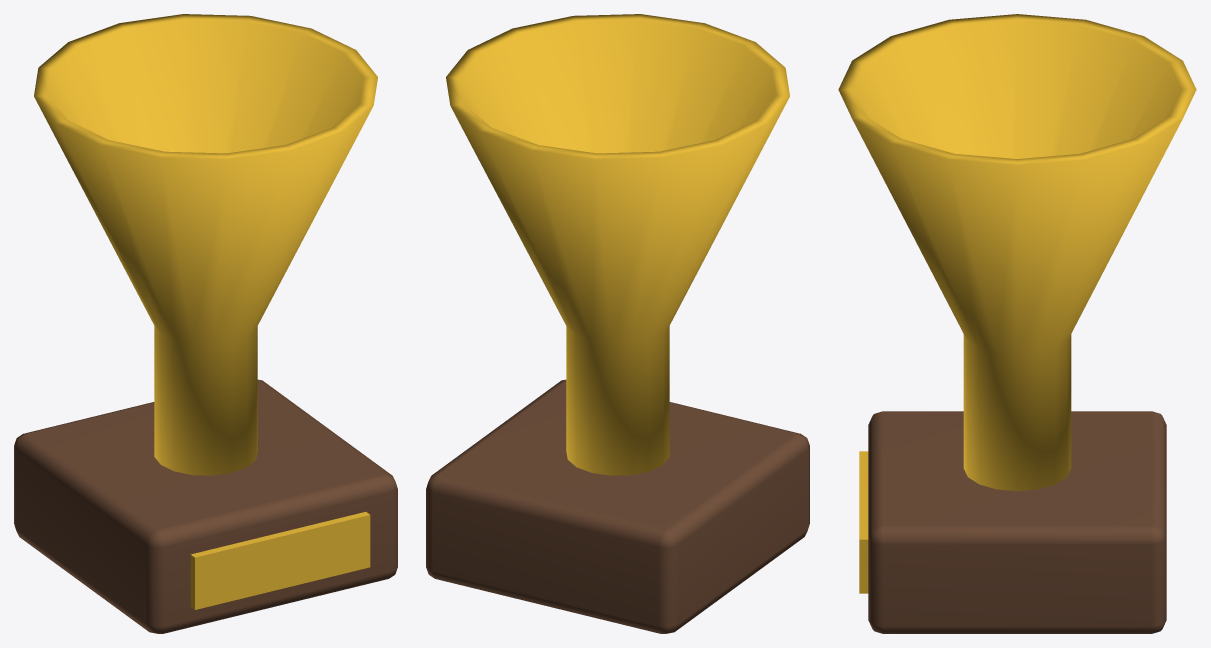
The model's file is DeskTrophy.fbx.
3 views of the same model, side by side, from view 1: azimuth 30°, elevation 25°; view 2: azimuth 150°, elevation 25°; view 3: azimuth 270°, elevation 25° (orthographic). The views are drawn at different scales.
Parts seen in each view (by area): view 1: DeskTrophyBody; view 2: DeskTrophyBody; view 3: DeskTrophyBody.
Part boxes in pixels (x1,y1,x2,y2): DeskTrophyBody: (14, 14, 397, 633); DeskTrophyBody: (426, 14, 809, 633); DeskTrophyBody: (838, 14, 1196, 633).
Size of the model in its own units: 0.12 by 0.18 by 0.12.
